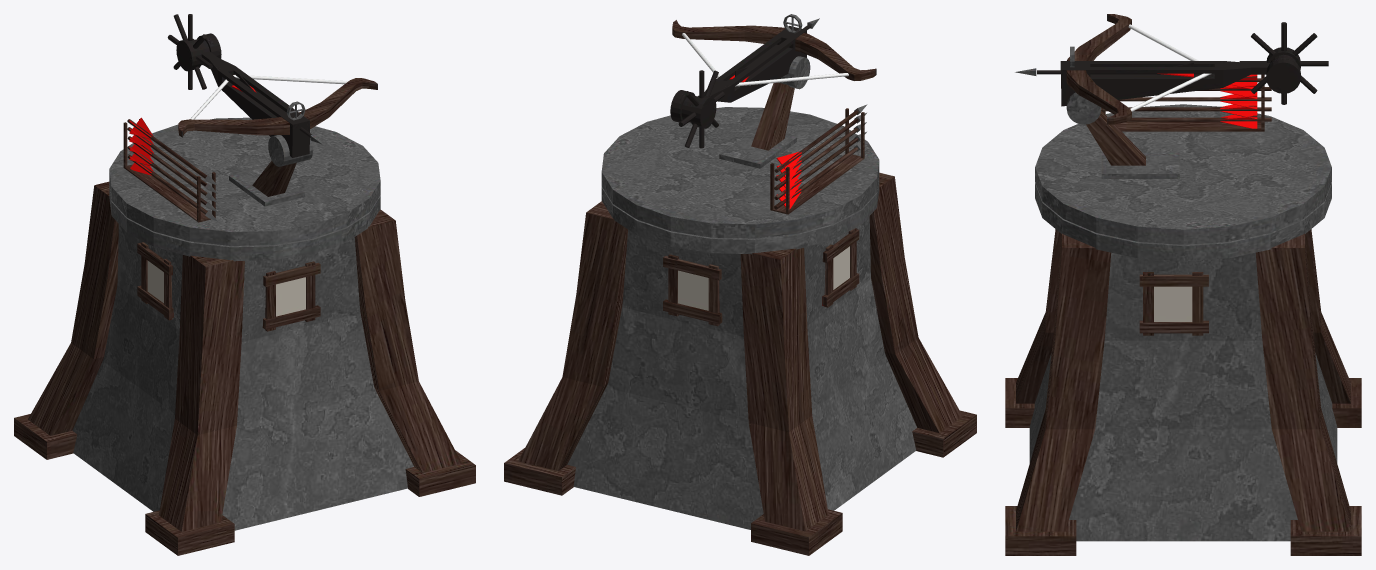
Rendered from tower.dae.
3 views of the same model, side by side, from view 1: azimuth 30°, elevation 25°; view 2: azimuth 150°, elevation 25°; view 3: azimuth 270°, elevation 25° (orthographic). The views are drawn at different scales.
Parts seen in each view (by area): view 1: BigArrowTowerLP; view 2: BigArrowTowerLP; view 3: BigArrowTowerLP.
Boxes of the visible parts, x1,y1,x2,y2 form: BigArrowTowerLP: (14, 14, 475, 555); BigArrowTowerLP: (504, 14, 976, 555); BigArrowTowerLP: (1005, 14, 1361, 555).
Bounding box in the file's own units: 0.5148 × 0.6913 × 0.4905.
1 material, 1 textured.
